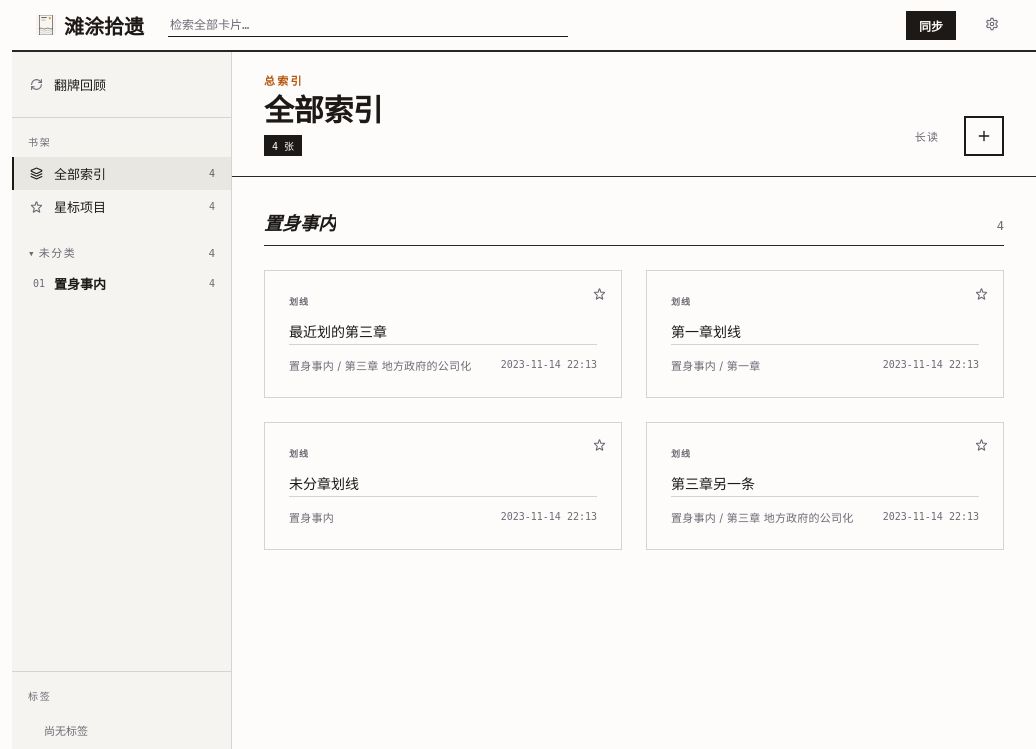
Test: 书内章节目次 › 点一章收起目次并滚到该章分隔行
Click the button "01 置身事内 4": click(122, 284) x1=12 y1=267 x2=231 y2=300
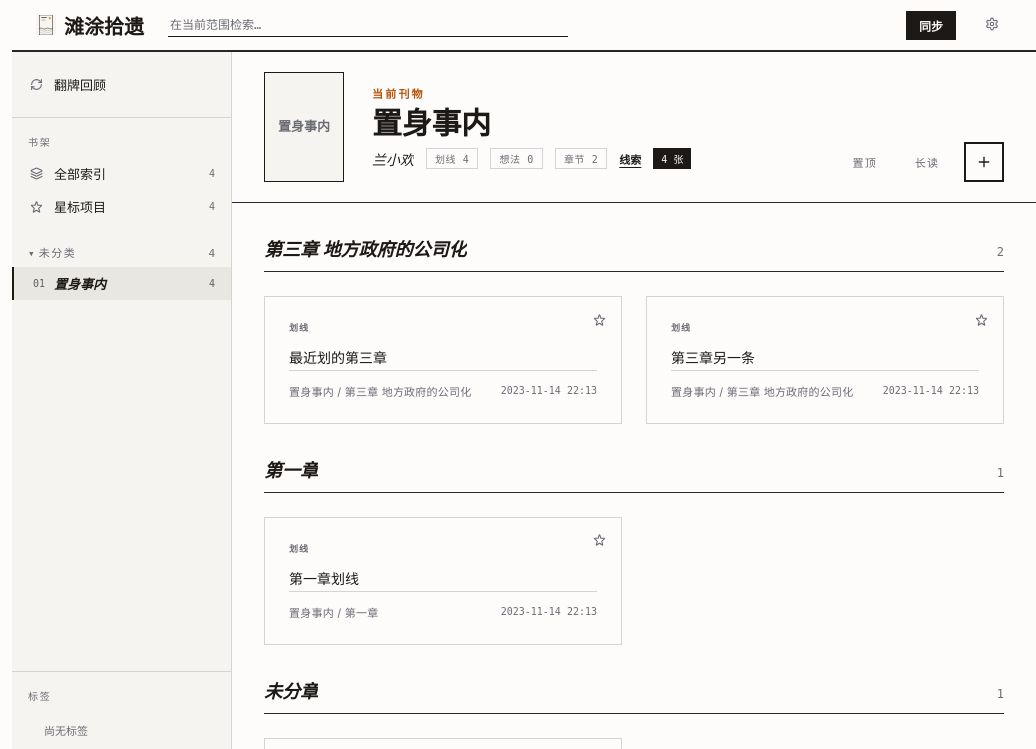
Check: the text "最近划的第三章" is shown, box x1=289 y1=349 x2=387 y2=366
Click the button "章节 2": click(581, 158) x1=555 y1=148 x2=607 y2=169
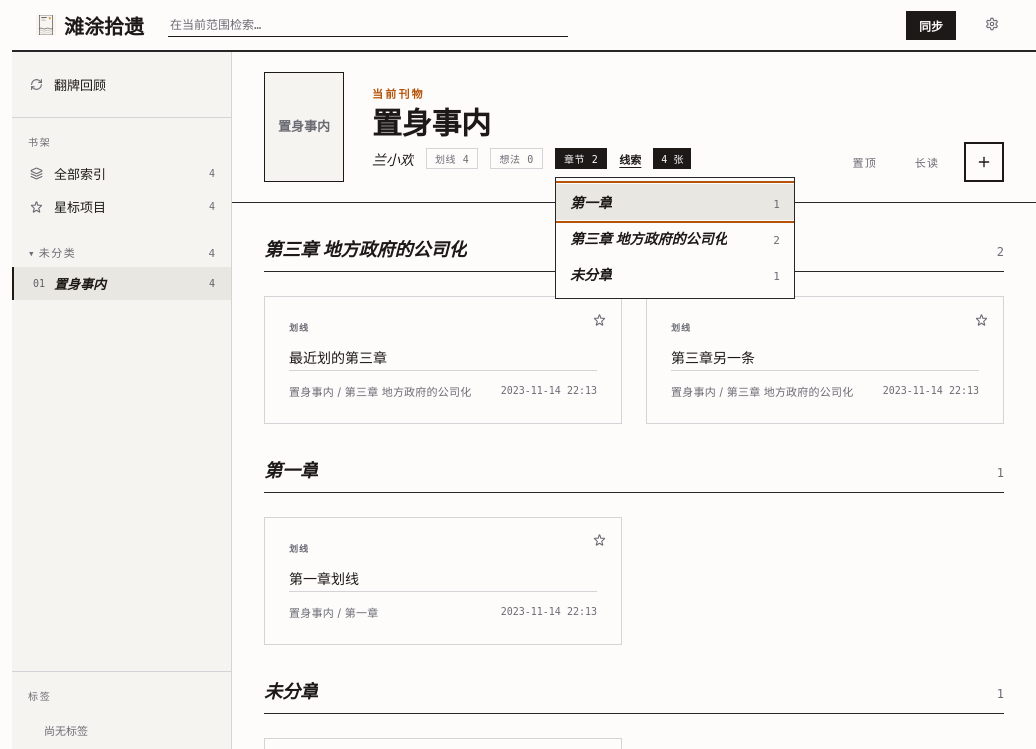
Click the menu item with aria-label "第一章，1 张": click(675, 202) x1=556 y1=184 x2=794 y2=220
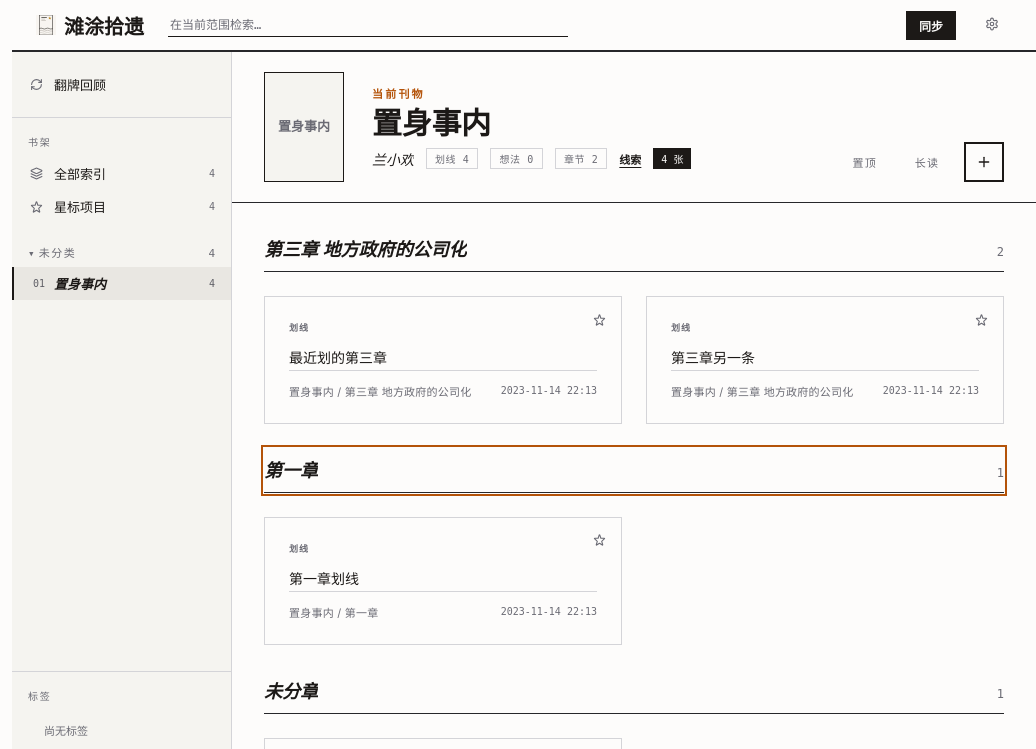
Check: the menu is gone
